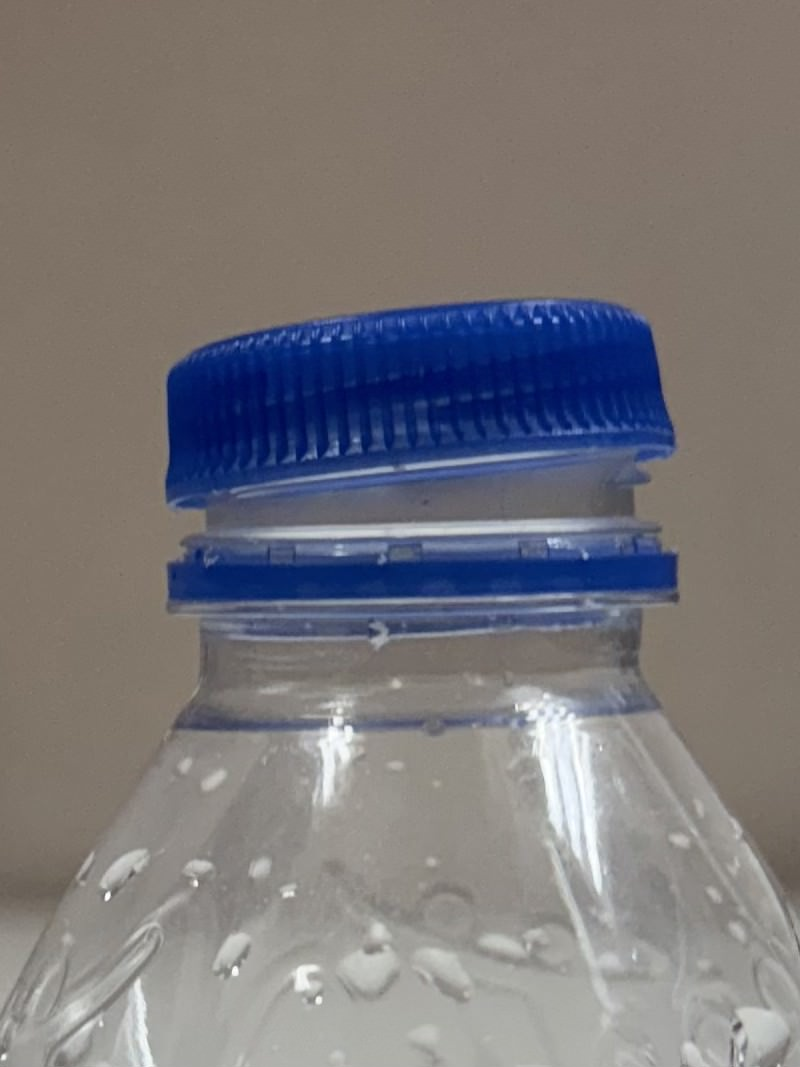half_cap: (163, 291, 679, 638)
